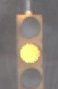Yellow: (8, 8, 51, 89)
